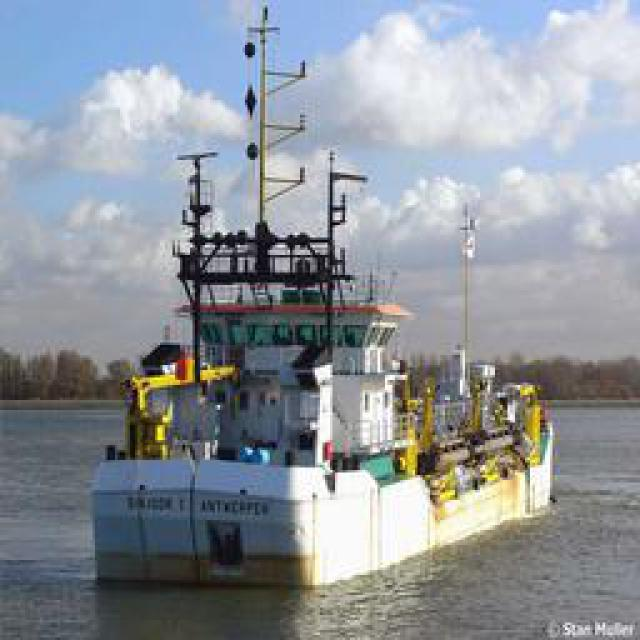Ship: (91, 83, 551, 578)
